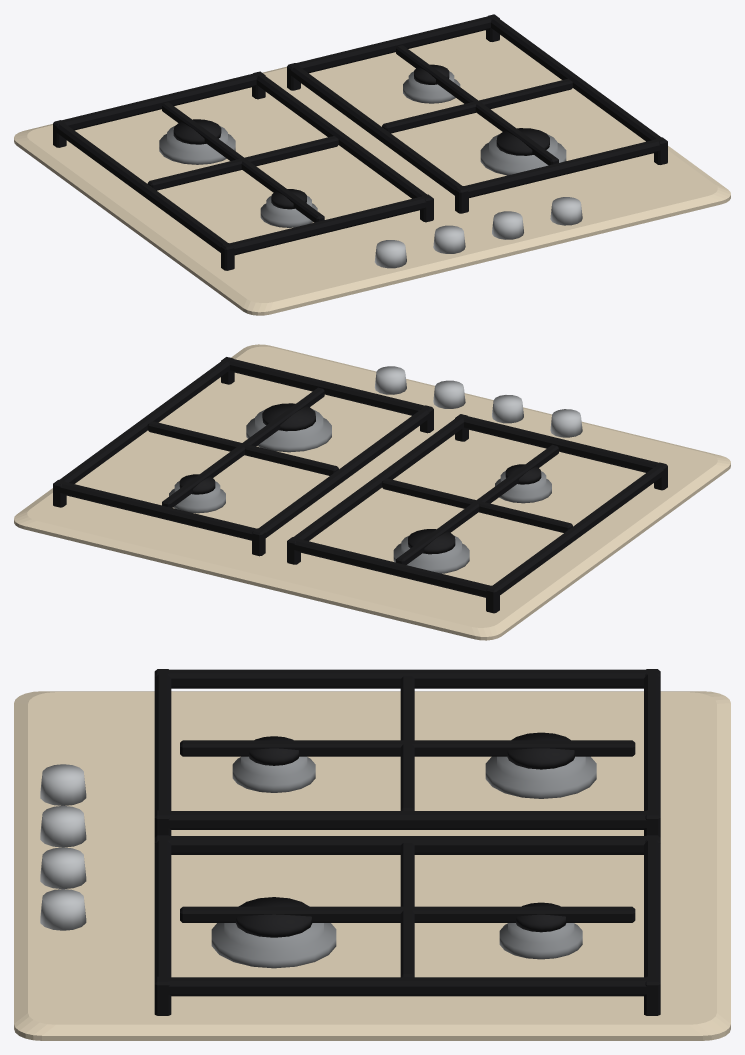
File: a_hob_gas4_3.glb
3 renders of one model, top to bottom at view 1: azimuth 30°, elevation 25°; view 2: azimuth 150°, elevation 25°; view 3: azimuth 270°, elevation 25°, orthographic. The views are drawn at different scales.
Visible parts, largest first — view 1: o, o.006, o.005, o.019, o.020, o.008, o.021, o.007, o.022, o.010, o.024, o.009 (+11 smaller); view 2: o, o.008, o.022, o.019, o.005, o.020, o.006, o.007, o.021, o.010, o.024, o.009 (+11 smaller); view 3: o, o.021, o.005, o.007, o.019, o.009, o.023, o.017, o.001, o.020, o.006, o.022 (+13 smaller).
Boxes of the visible parts, box(x1,y1,x2,y2) form: o: box(14, 30, 730, 315); o.006: box(221, 195, 432, 255); o.005: box(53, 121, 233, 255); o.019: box(287, 63, 467, 198); o.020: box(457, 139, 661, 198); o.008: box(57, 72, 259, 130); o.021: box(489, 15, 666, 149); o.007: box(255, 72, 431, 206); o.022: box(292, 15, 496, 73); o.010: box(147, 136, 338, 190); o.024: box(382, 78, 572, 133); o.009: box(162, 102, 324, 222); o: box(14, 344, 730, 640); o.008: box(291, 538, 499, 597); o.022: box(57, 480, 265, 540); o.019: box(253, 406, 432, 540); o.005: box(487, 465, 663, 598); o.020: box(224, 357, 432, 417); o.006: box(458, 415, 664, 472); o.007: box(288, 415, 464, 549); o.021: box(54, 357, 229, 492); o.010: box(382, 478, 572, 532); o.024: box(147, 421, 338, 475); o.009: box(396, 444, 558, 564); o: box(14, 691, 730, 1040); o.021: box(158, 977, 656, 996); o.005: box(158, 669, 656, 688); o.007: box(158, 811, 656, 829); o.019: box(158, 836, 656, 854); o.009: box(180, 740, 635, 756); o.023: box(180, 906, 635, 922); o.017: box(211, 905, 336, 968); o.001: box(485, 756, 596, 798); o.020: box(154, 836, 171, 994); o.006: box(154, 670, 171, 812); o.022: box(644, 836, 660, 991).
Size of the model in its own units: 0.58 by 0.034 by 0.51.
